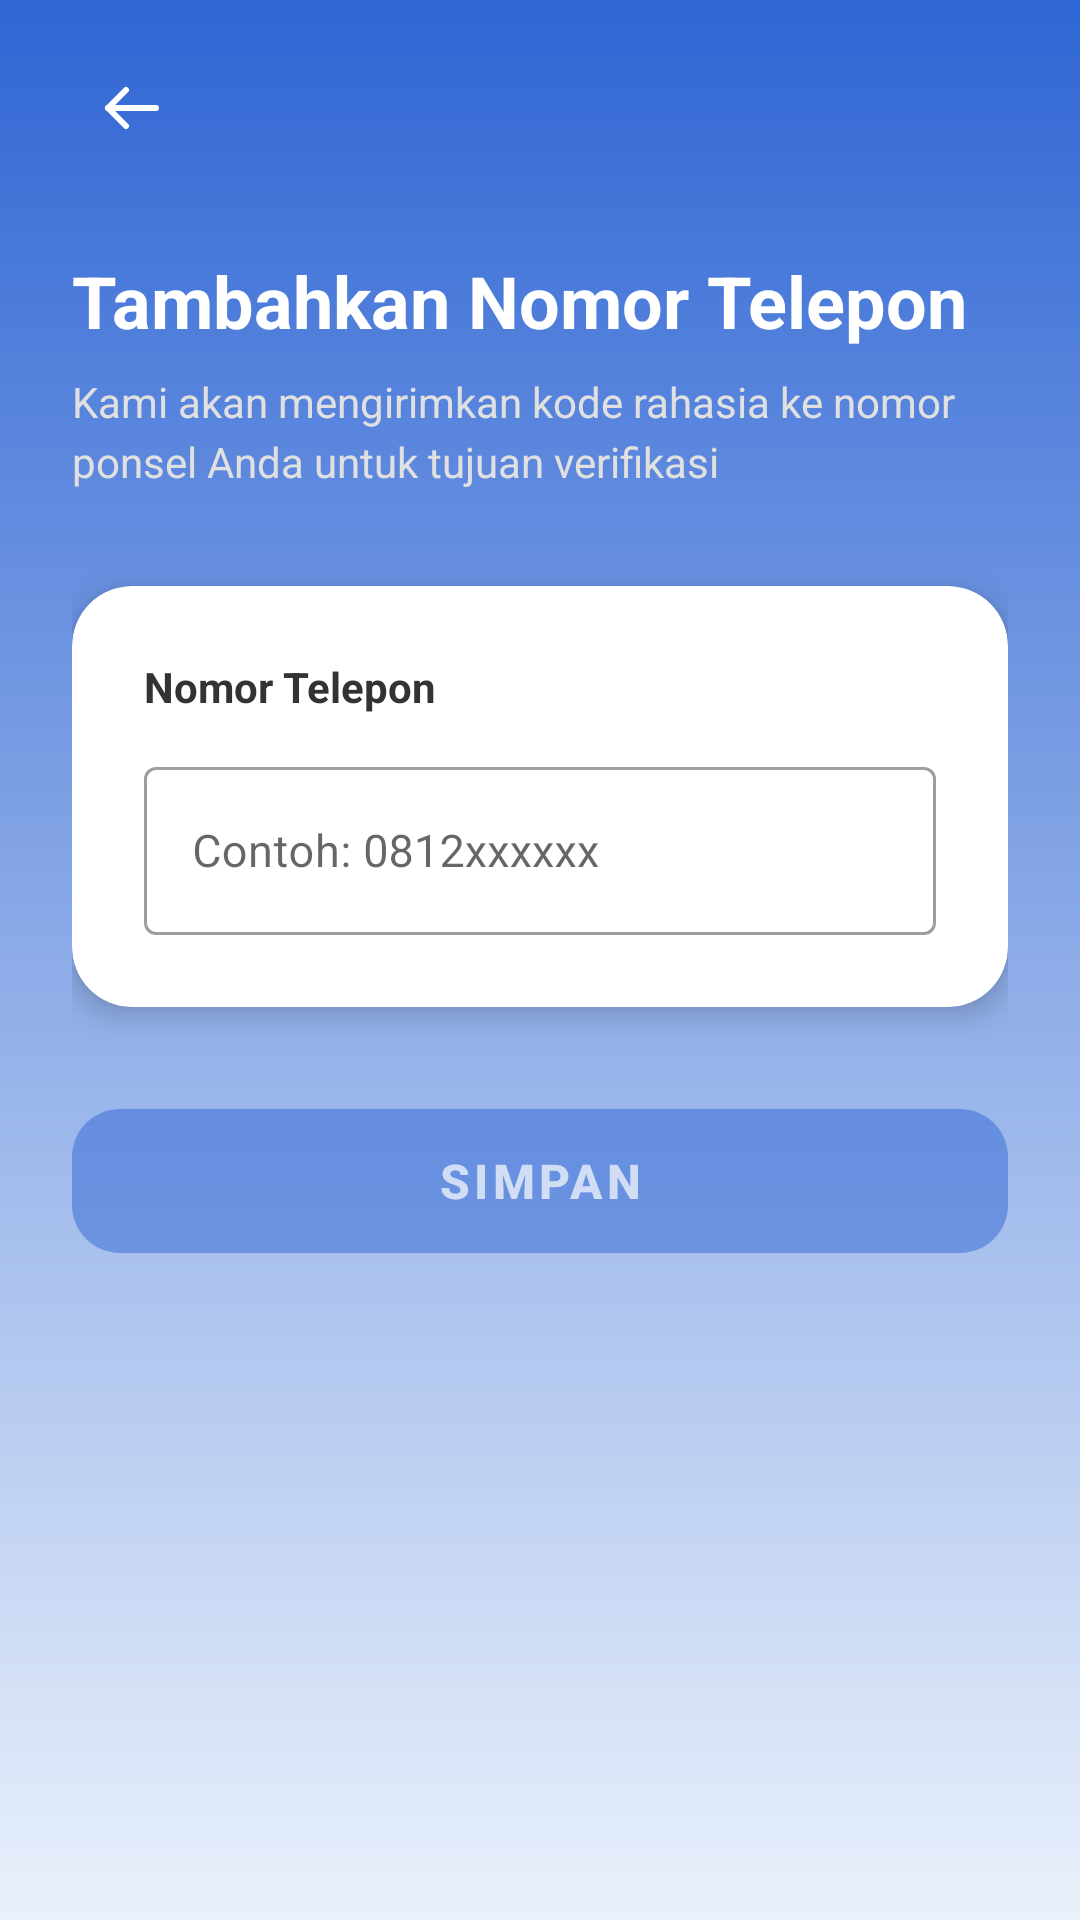

Screen size 1080×1920. Icon name, then its box in pixels as (x1,y1,x2,y2):
Kembali: (105,87,159,129)
